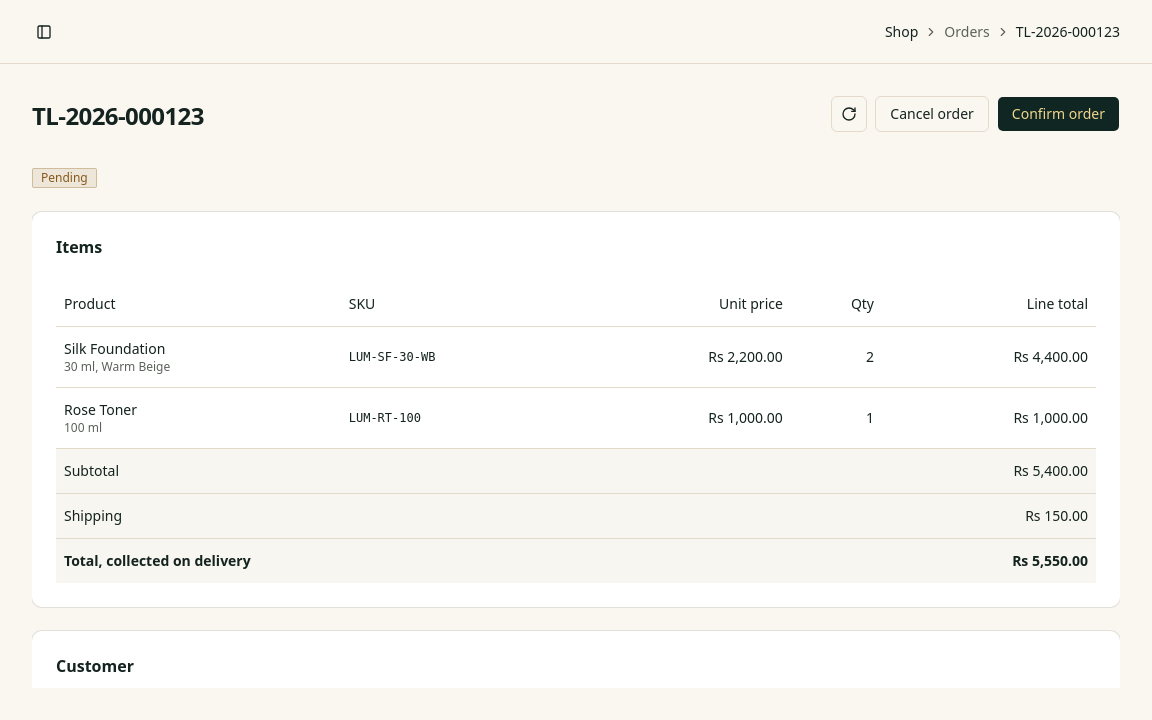
Test: order actions › cancels only after the confirmation that the items go back into stock
Click the button "Cancel order" at point(932, 114), box [875,96,989,132]
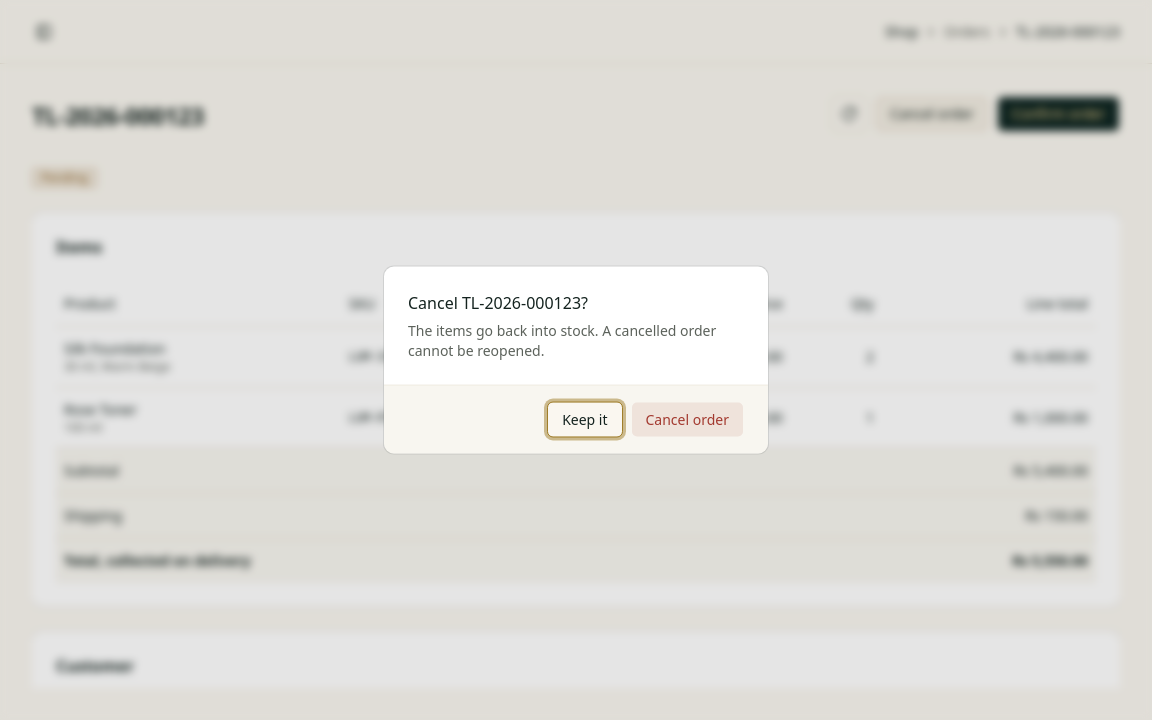
Now the dialog shows "The items go back into stock.", box [408,320,716,360]
Click the button "Cancel order" at point(687, 420), box [630,402,744,438]
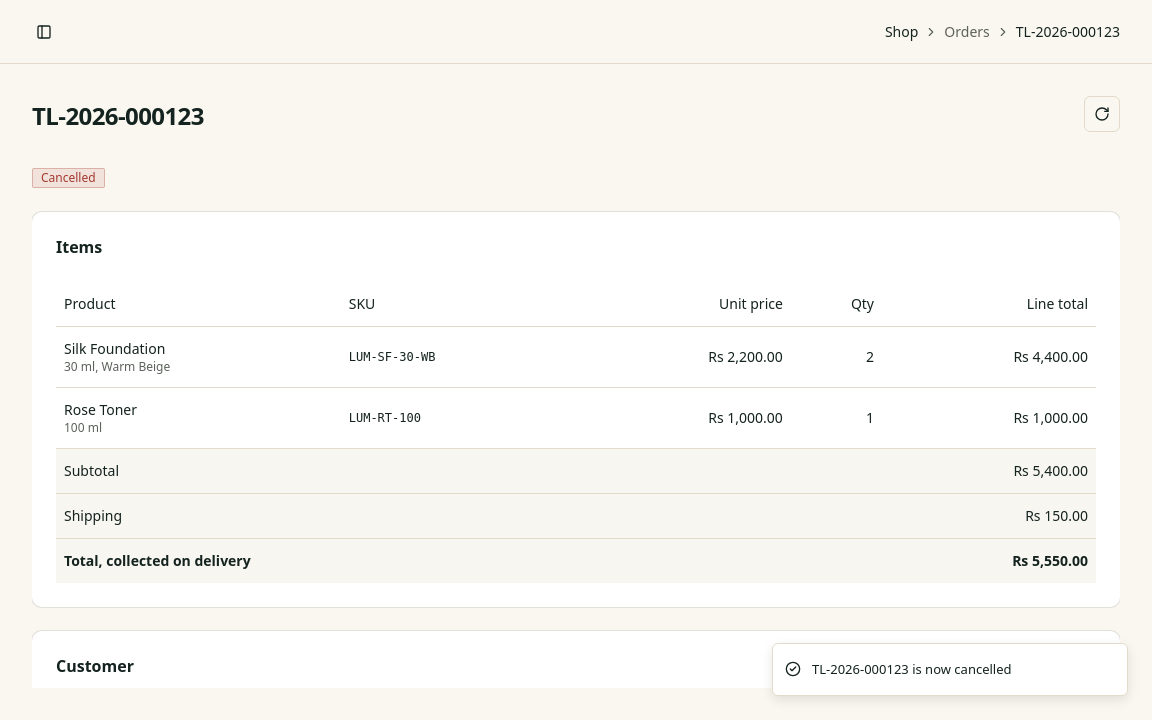
Now the text "TL-2026-000123 is now cancelled" is shown, box [812,660,1012,679]
Now the dialog is gone
